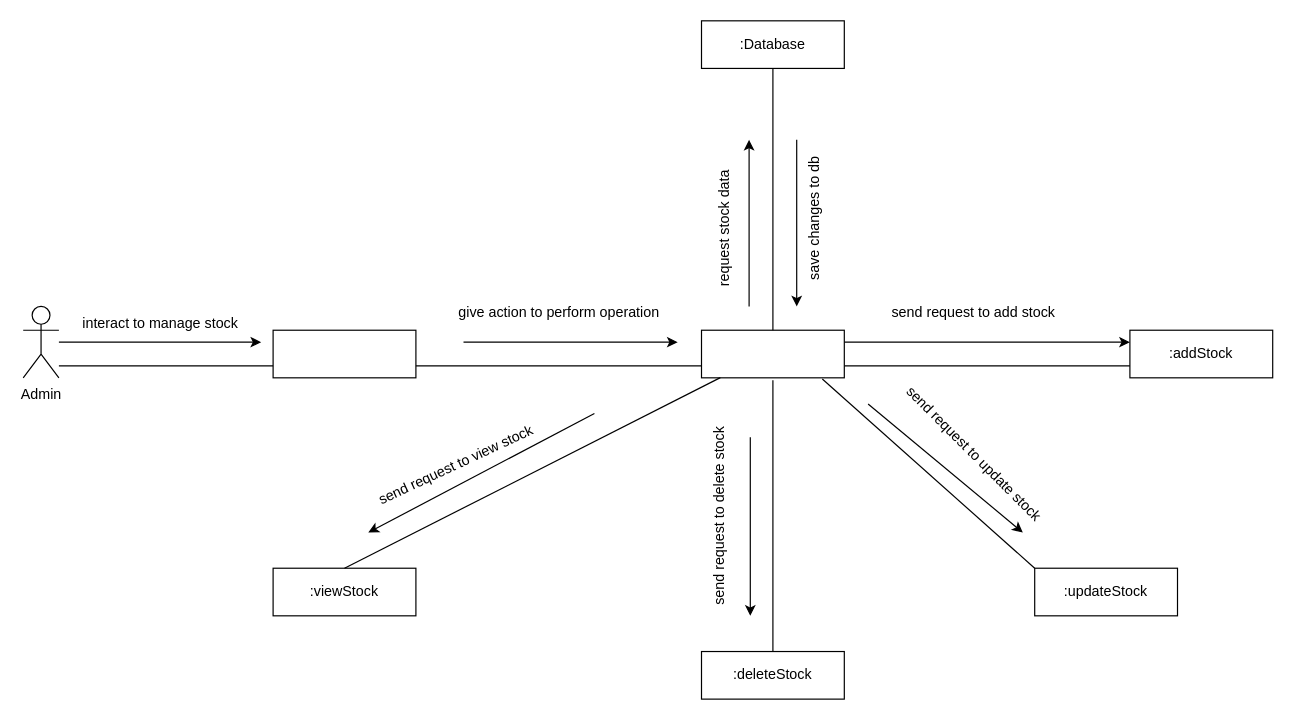
This 1294x720 diagram has some shape labels left out. The centre of each missing label's shape, as x and y in pixels:
":manageStock" goes at point 772,353.
":stockMangementUI" goes at point 344,353.
